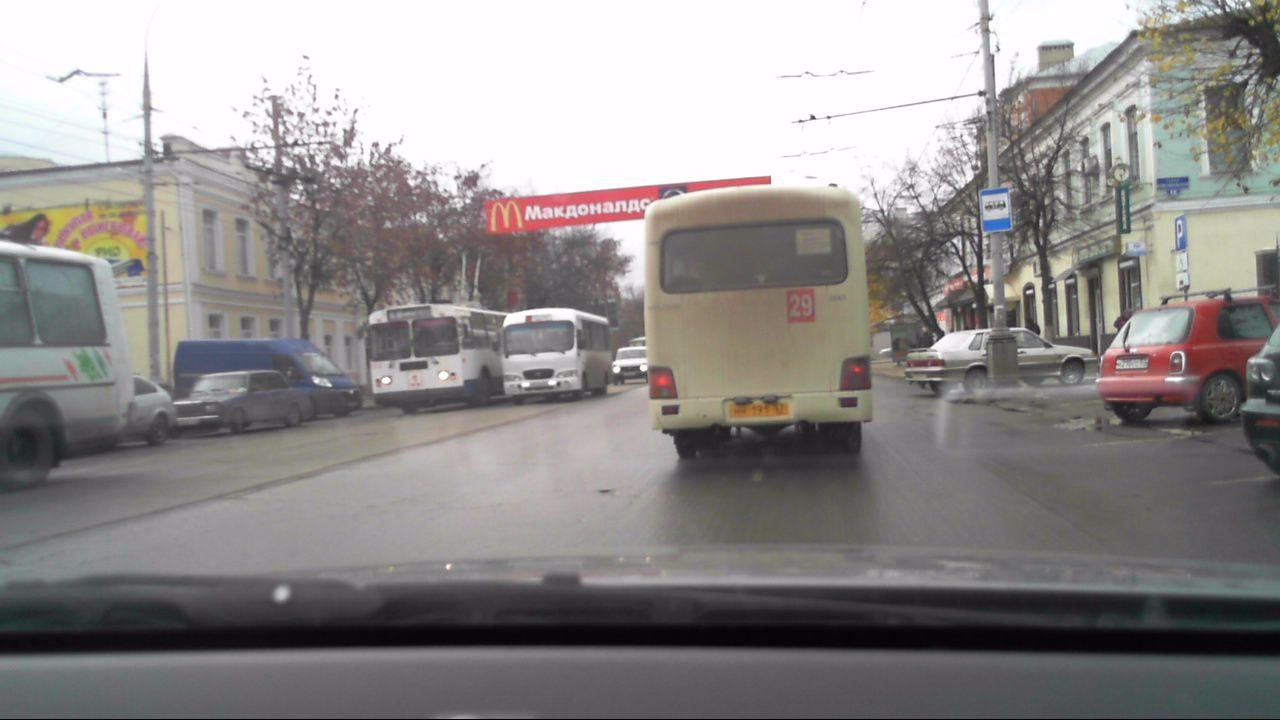5_16: (979, 183, 1016, 239)
6_4: (1175, 216, 1185, 248)
8_17: (1171, 250, 1190, 270)
8_6_5: (1171, 272, 1192, 292)
